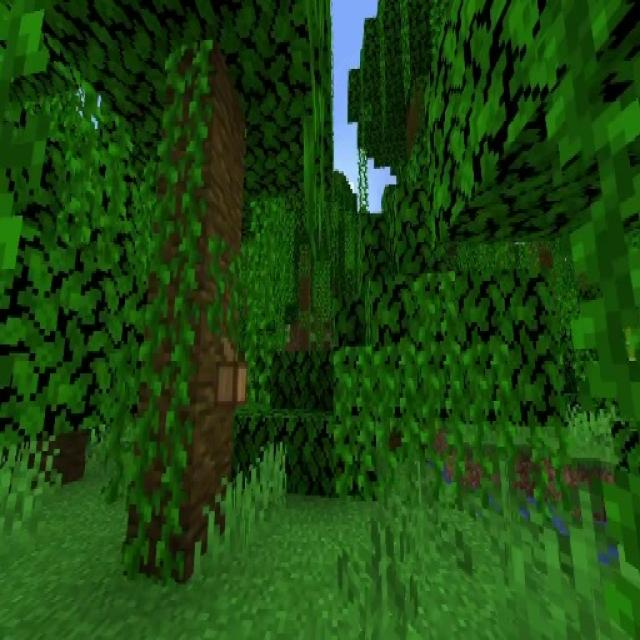jungle_log: (129, 49, 254, 573)
